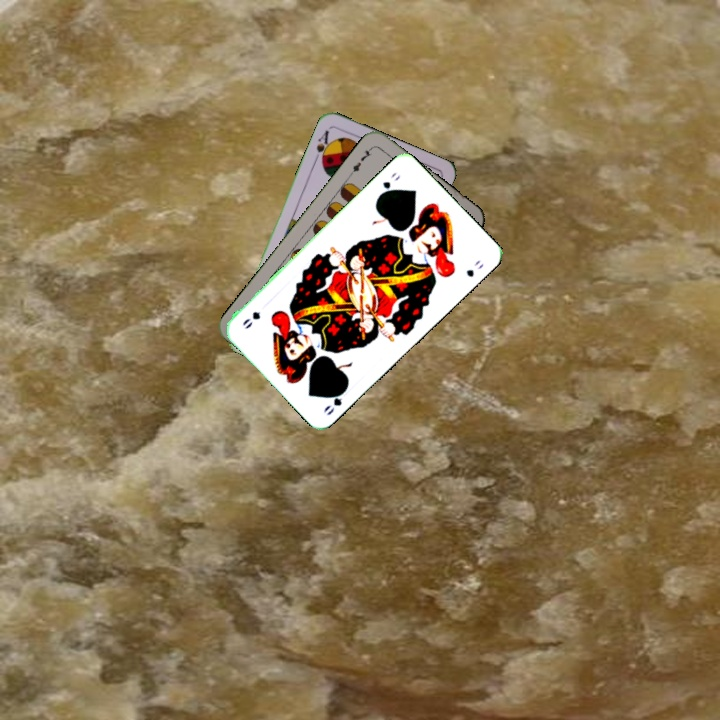E7: (346, 143, 375, 178)
GO: (319, 383, 350, 418), (374, 168, 403, 200)
SA: (310, 126, 334, 166)
